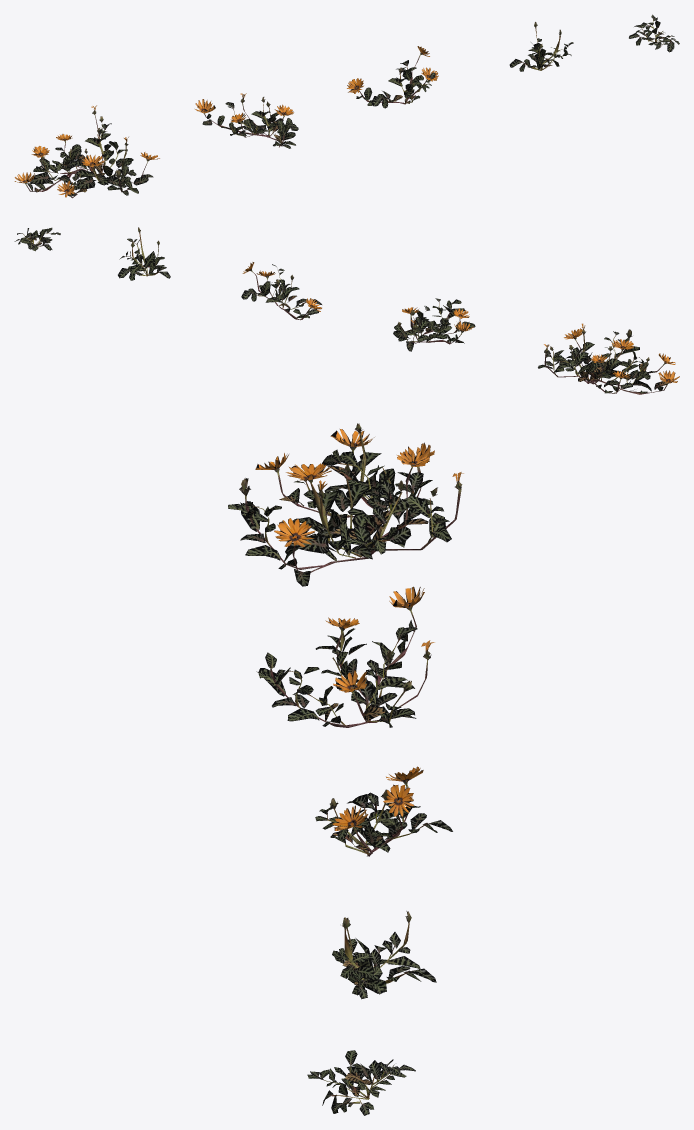
Rendered from flower_ursinia.glb.
The picture shows the model from 3 angles, top to bottom: view 1: azimuth 30°, elevation 25°; view 2: azimuth 150°, elevation 25°; view 3: azimuth 270°, elevation 25°; orthographic projection. The views are drawn at different scales.
Parts seen in each view (by area): view 1: flower_ursinia_a_LOD0, flower_ursinia_b_LOD0, flower_ursinia_c_LOD0, flower_ursinia_d_LOD0, flower_ursinia_e_LOD0; view 2: flower_ursinia_a_LOD0, flower_ursinia_b_LOD0, flower_ursinia_c_LOD0, flower_ursinia_d_LOD0, flower_ursinia_e_LOD0; view 3: flower_ursinia_a_LOD0, flower_ursinia_b_LOD0, flower_ursinia_c_LOD0, flower_ursinia_d_LOD0, flower_ursinia_e_LOD0.
Part boxes in pixels (<box>): flower_ursinia_a_LOD0: <box>14,105,159,198</box>; flower_ursinia_b_LOD0: <box>195,93,298,148</box>; flower_ursinia_c_LOD0: <box>347,46,438,108</box>; flower_ursinia_d_LOD0: <box>509,22,573,71</box>; flower_ursinia_e_LOD0: <box>629,14,679,52</box>; flower_ursinia_a_LOD0: <box>538,323,679,394</box>; flower_ursinia_b_LOD0: <box>393,298,475,351</box>; flower_ursinia_c_LOD0: <box>241,262,321,320</box>; flower_ursinia_d_LOD0: <box>118,227,170,280</box>; flower_ursinia_e_LOD0: <box>14,227,60,251</box>; flower_ursinia_a_LOD0: <box>228,423,463,586</box>; flower_ursinia_b_LOD0: <box>256,586,434,727</box>; flower_ursinia_c_LOD0: <box>315,766,452,856</box>; flower_ursinia_d_LOD0: <box>332,911,436,999</box>; flower_ursinia_e_LOD0: <box>307,1050,415,1115</box>.
Bounding box in the file's own units: 2.19 × 0.1714 × 0.3423.
Materials: 1 (1 with a texture image).
